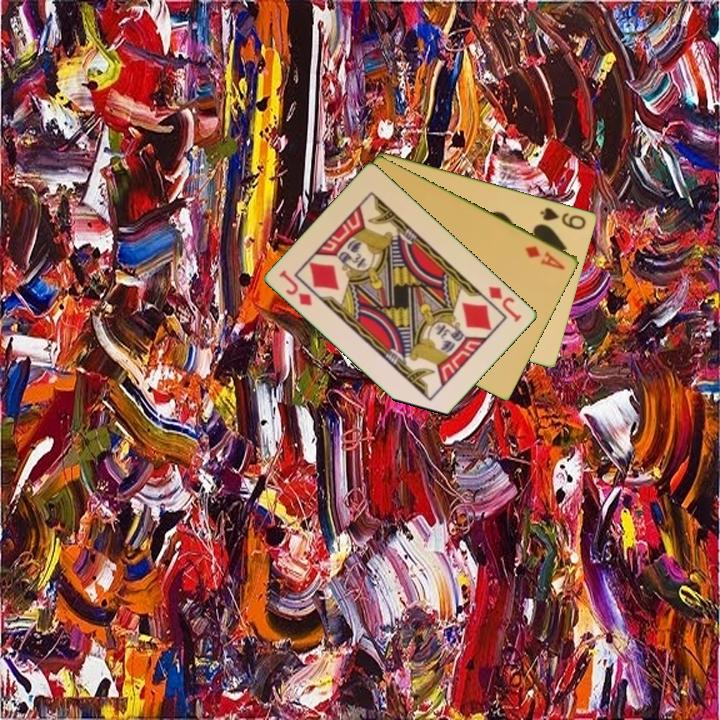9s: (537, 203, 589, 233)
Ad: (522, 242, 569, 273)
Jd: (485, 282, 525, 325), (276, 266, 316, 309)
